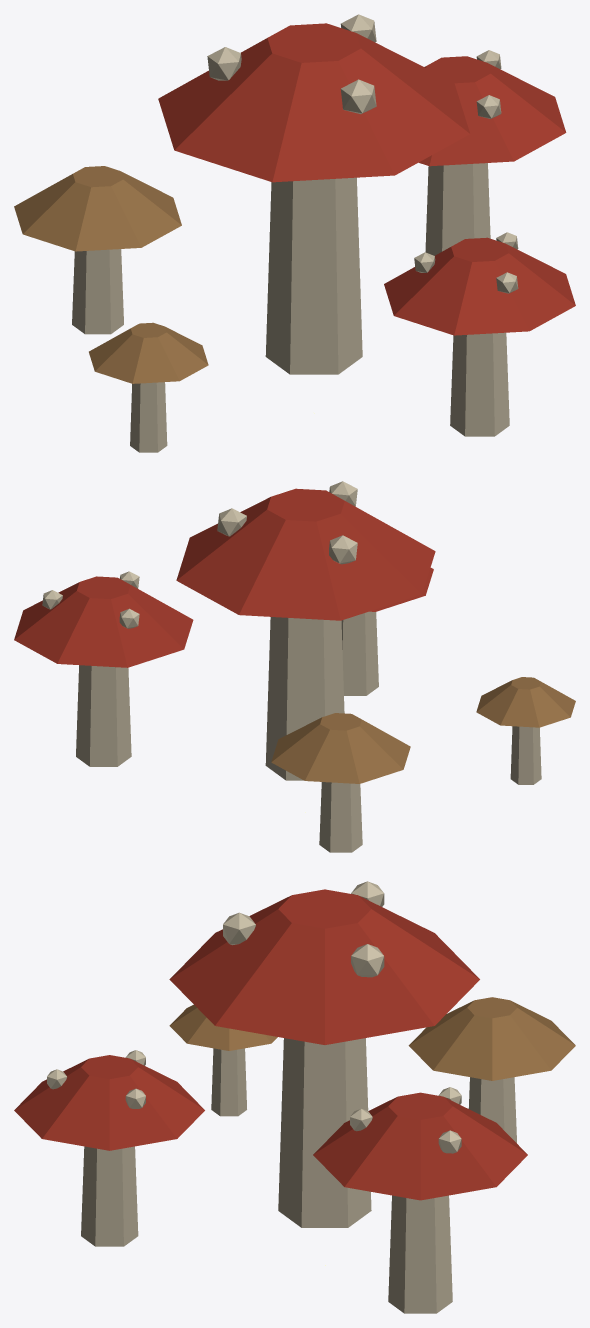
Rendered from mushrooms.glb.
The picture shows the model from 3 angles, top to bottom: view 1: azimuth 30°, elevation 25°; view 2: azimuth 150°, elevation 25°; view 3: azimuth 270°, elevation 25°; orthographic projection. The views are drawn at different scales.
Visible parts, largest first — view 1: Mushrooms; view 2: Mushrooms; view 3: Mushrooms.
Boxes of the visible parts, x1,y1,x2,y2 form: Mushrooms: (14,14,575,452); Mushrooms: (14,481,575,852); Mushrooms: (14,881,575,1313).
Size of the model in its own units: 0.52 by 0.3285 by 0.47.
